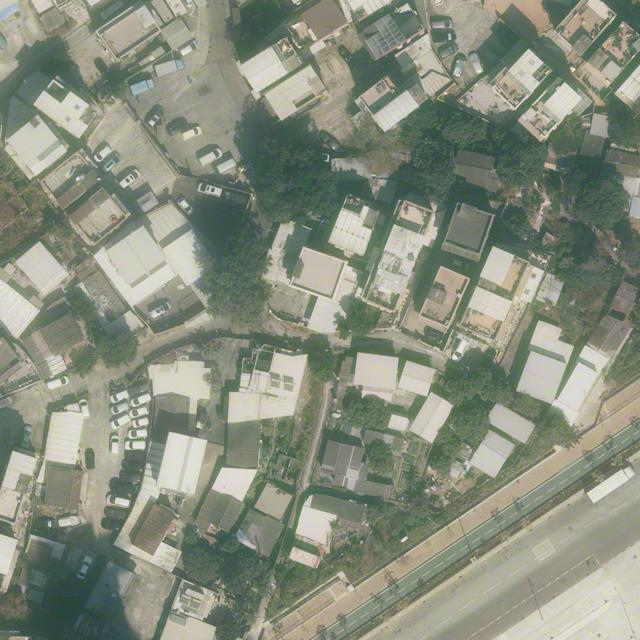panel: (365, 13, 407, 59)
